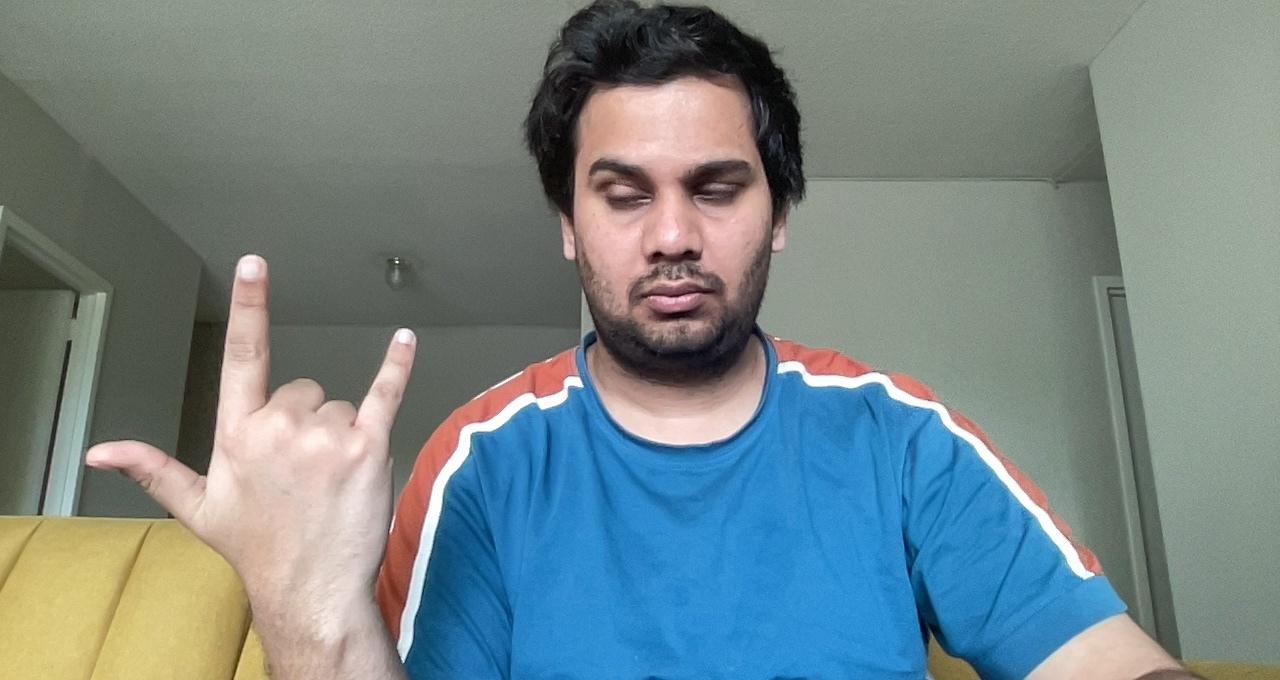rockon sign: (77, 238, 422, 621)
